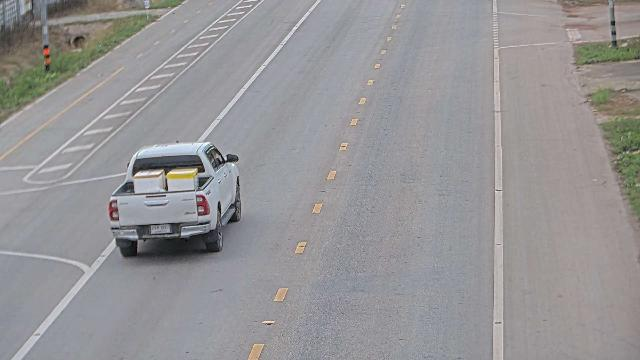pickup-truck: (107, 140, 242, 257)
